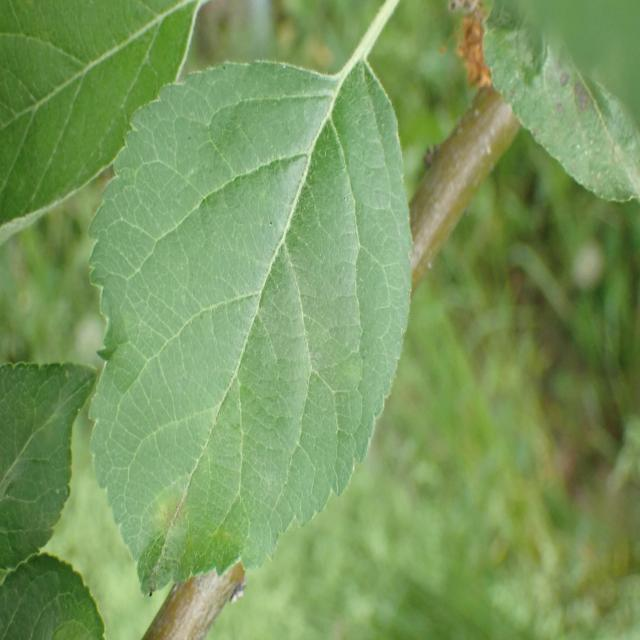scab: (111, 42, 399, 583), (485, 0, 623, 165)
